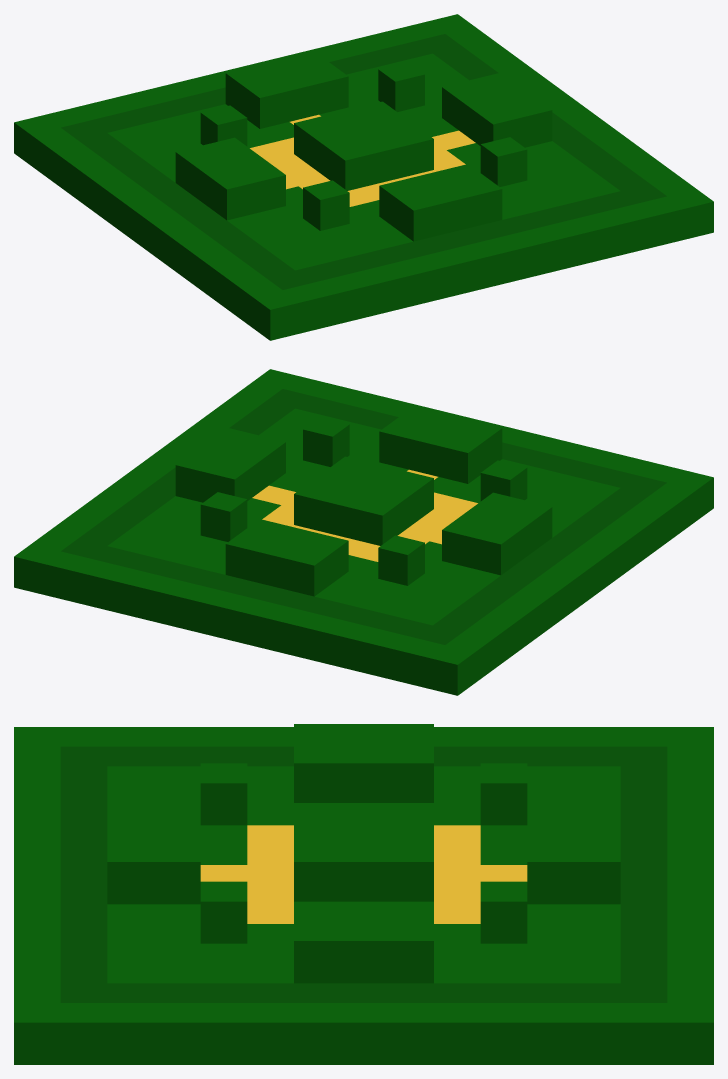
The model's file is open-circuit-4.gltf.
The picture shows the model from 3 angles, top to bottom: view 1: azimuth 30°, elevation 25°; view 2: azimuth 150°, elevation 25°; view 3: azimuth 270°, elevation 25°; orthographic projection. The views are drawn at different scales.
Parts seen in each view (by area): view 1: Node; view 2: Node; view 3: Node.
Boxes of the visible parts, x1,y1,x2,y2 form: Node: (14, 14, 713, 340); Node: (14, 369, 713, 695); Node: (14, 724, 713, 1064).
Bounding box in the file's own units: 1.5 × 0.2 × 1.5.
1 material, 1 textured.
